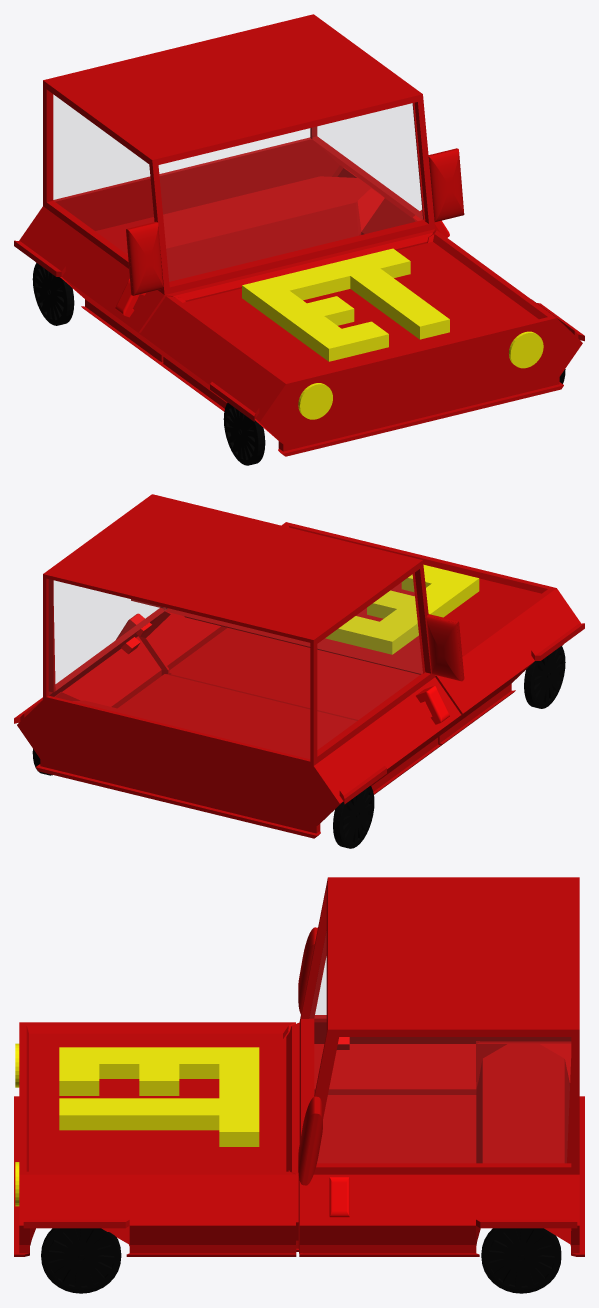
Rendered from car.obj.
3 views of the same model, one above another, from view 1: azimuth 30°, elevation 25°; view 2: azimuth 150°, elevation 25°; view 3: azimuth 270°, elevation 25° (orthographic). The views are drawn at different scales.
Parts seen in each view (by area): view 1: Cube, Cube.001, Cube.003_Cube.005, Cube.002_Cube.004, Cylinder.004, Cylinder.000_Cylinder.005, Cylinder_Cylinder.008, Cylinder.003_Cylinder.010; view 2: Cube, Cube.001, Cube.003_Cube.005, Cylinder.000_Cylinder.005, Cylinder.004, Cube.005_Cube.007, Cube.004_Cube.006; view 3: Cube, Cube.001, Cylinder.002_Cylinder.007, Cylinder.001_Cylinder.006, Cube.002_Cube.004, Cube.004_Cube.006, Cube.003_Cube.005.
Part boxes in pixels (x1,y1,x2,y2): Cube: (14,14,584,456); Cube.001: (242,248,449,361); Cube.003_Cube.005: (126,221,163,295); Cube.002_Cube.004: (428,148,464,222); Cylinder.004: (32,263,74,325); Cylinder.000_Cylinder.005: (223,402,265,465); Cylinder_Cylinder.008: (508,331,543,368); Cylinder.003_Cylinder.010: (298,383,332,419); Cube: (14,494,584,838); Cube.001: (325,564,479,654); Cube.003_Cube.005: (426,614,464,681); Cylinder.000_Cylinder.005: (524,646,565,708); Cylinder.004: (333,786,374,848); Cube.005_Cube.007: (416,685,449,724); Cube.004_Cube.006: (116,613,151,654); Cube: (14,877,584,1256); Cube.001: (59,1047,259,1146); Cylinder.002_Cylinder.007: (481,1228,561,1293); Cylinder.001_Cylinder.006: (41,1228,121,1293); Cube.002_Cube.004: (298,1096,322,1185); Cube.004_Cube.006: (329,1177,349,1217); Cube.003_Cube.005: (298,927,317,1013).
Bounding box in the file's own units: 11 × 7 × 14.27.
